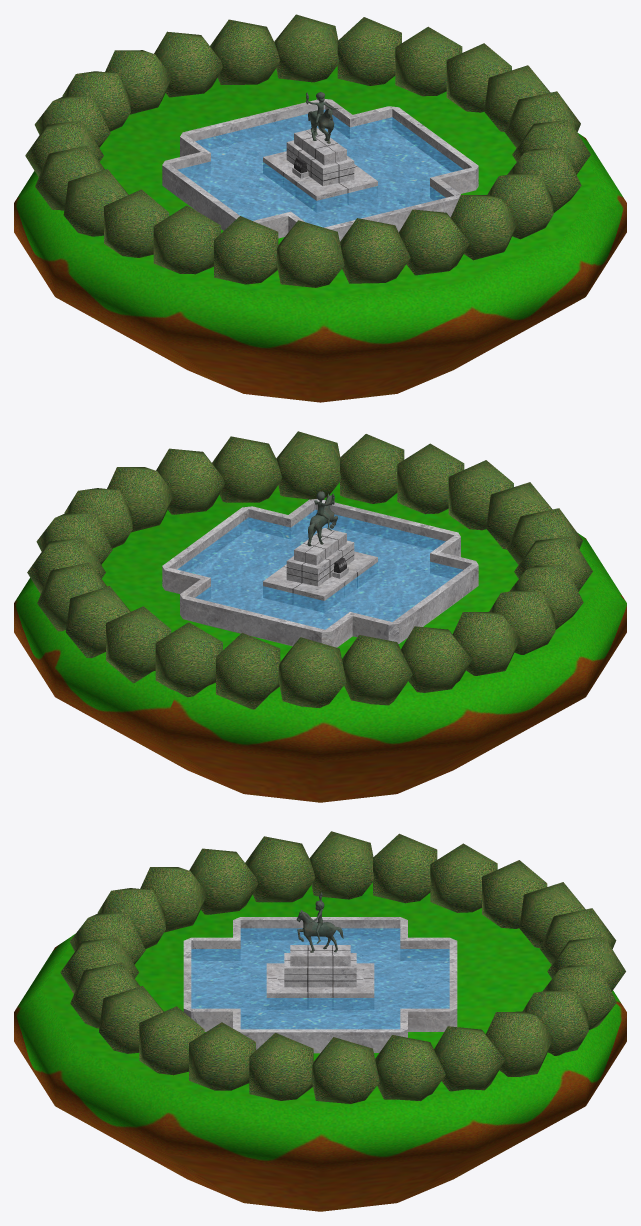
Rendered from land.fbx.
3 views of the same model, one above another, from view 1: azimuth 30°, elevation 25°; view 2: azimuth 150°, elevation 25°; view 3: azimuth 270°, elevation 25° (orthographic).
Visible parts, largest first — view 1: polySurface45, polySurface13; view 2: polySurface45, polySurface13; view 3: polySurface45, polySurface13.
Part boxes in pixels (left/top/right/bottom): polySurface45: left=14, top=14, right=626, bottom=402; polySurface13: left=178, top=109, right=463, bottom=227; polySurface45: left=14, top=431, right=626, bottom=802; polySurface13: left=177, top=510, right=462, bottom=629; polySurface45: left=14, top=831, right=626, bottom=1211; polySurface13: left=191, top=928, right=449, bottom=1029.
Bounding box in the file's own units: 2.33 × 1.04 × 2.33.
Materials: 5 (5 with a texture image).
